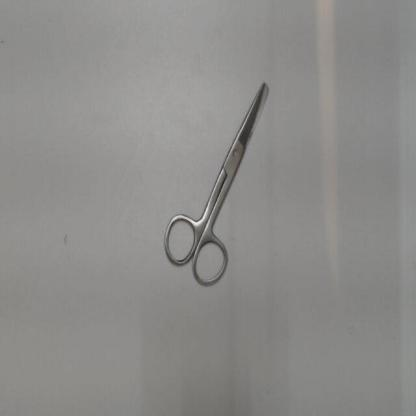Dressing Scissors: (158, 67, 276, 297)
